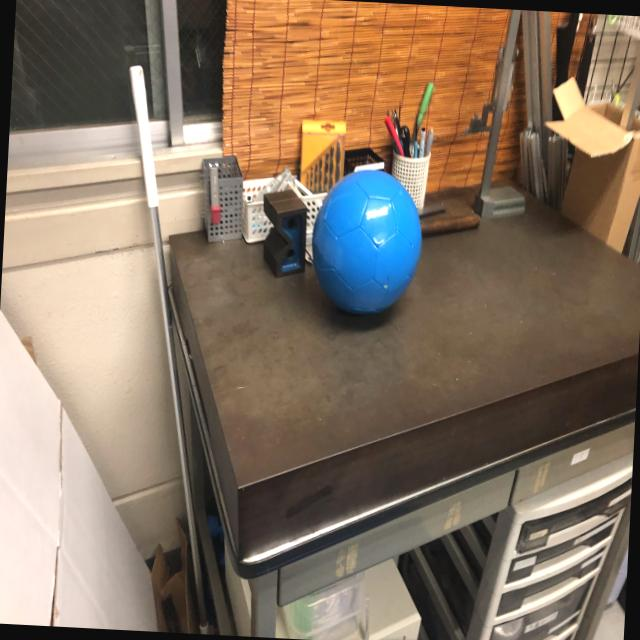blue_ball: (310, 163, 423, 319)
